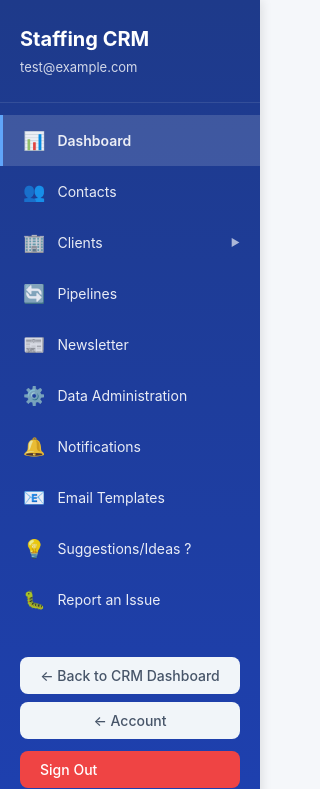
Test: CRMApp RBAC navigation › hides restricted client submenu options
The image size is (320, 789).
Click the text "Clients" at (80,242), box [58, 232, 103, 252]
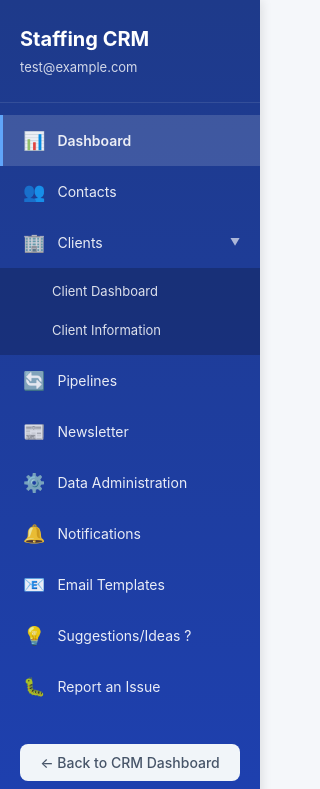
Result: the text "Client Dashboard" is shown at [52, 282, 158, 298]
